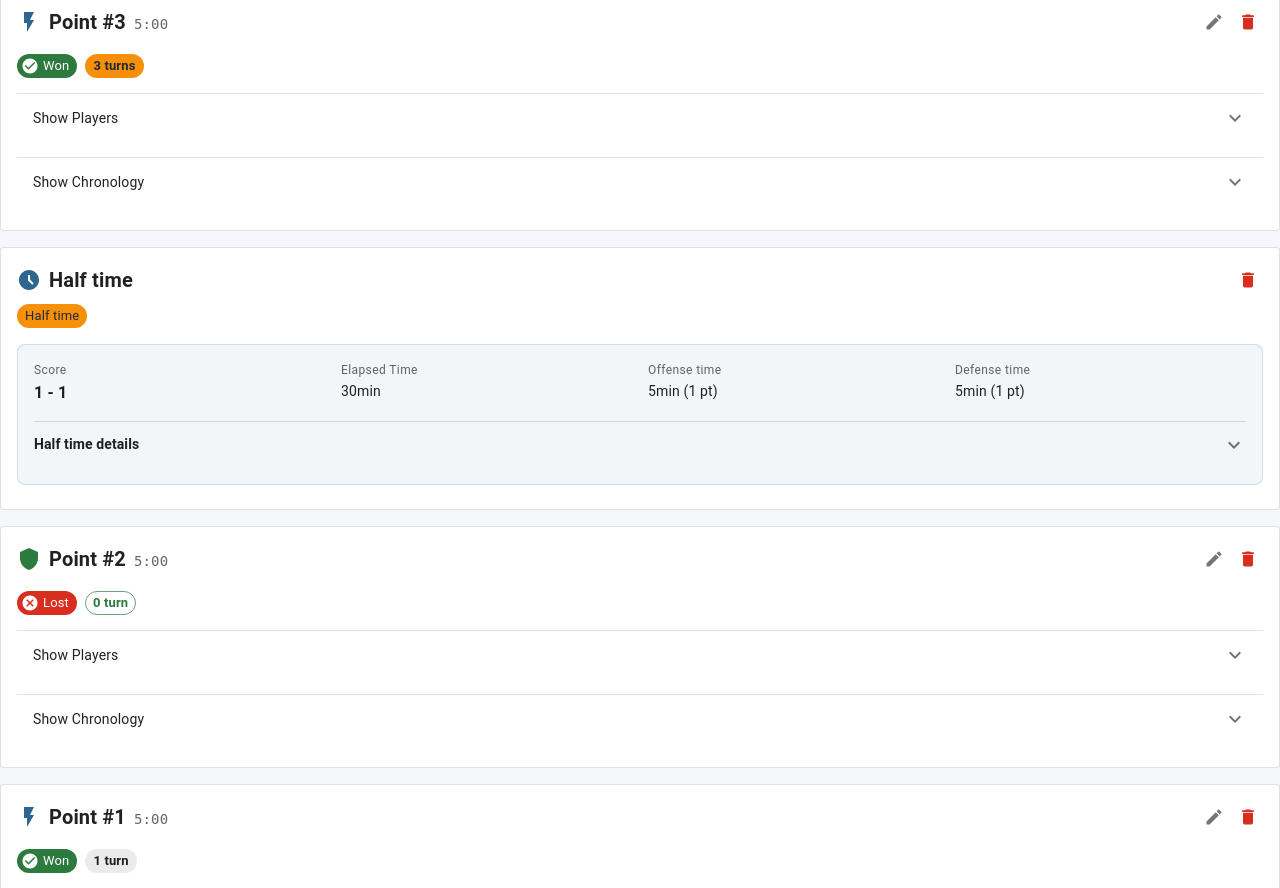
it: PointHistoryList › renders halftime overview snapshot from points before halftime
This screenshot has width=1280, height=888.
Expected: the text "1 - 1" is shown, top-left (34, 383), bottom-right (67, 402)
Expected: the element "Half time" is shown, top-left (0, 247), bottom-right (1279, 510)
Click the button "Half time details".
click(87, 444)  # box top-left (34, 421), bottom-right (1246, 468)
(page scrolled)
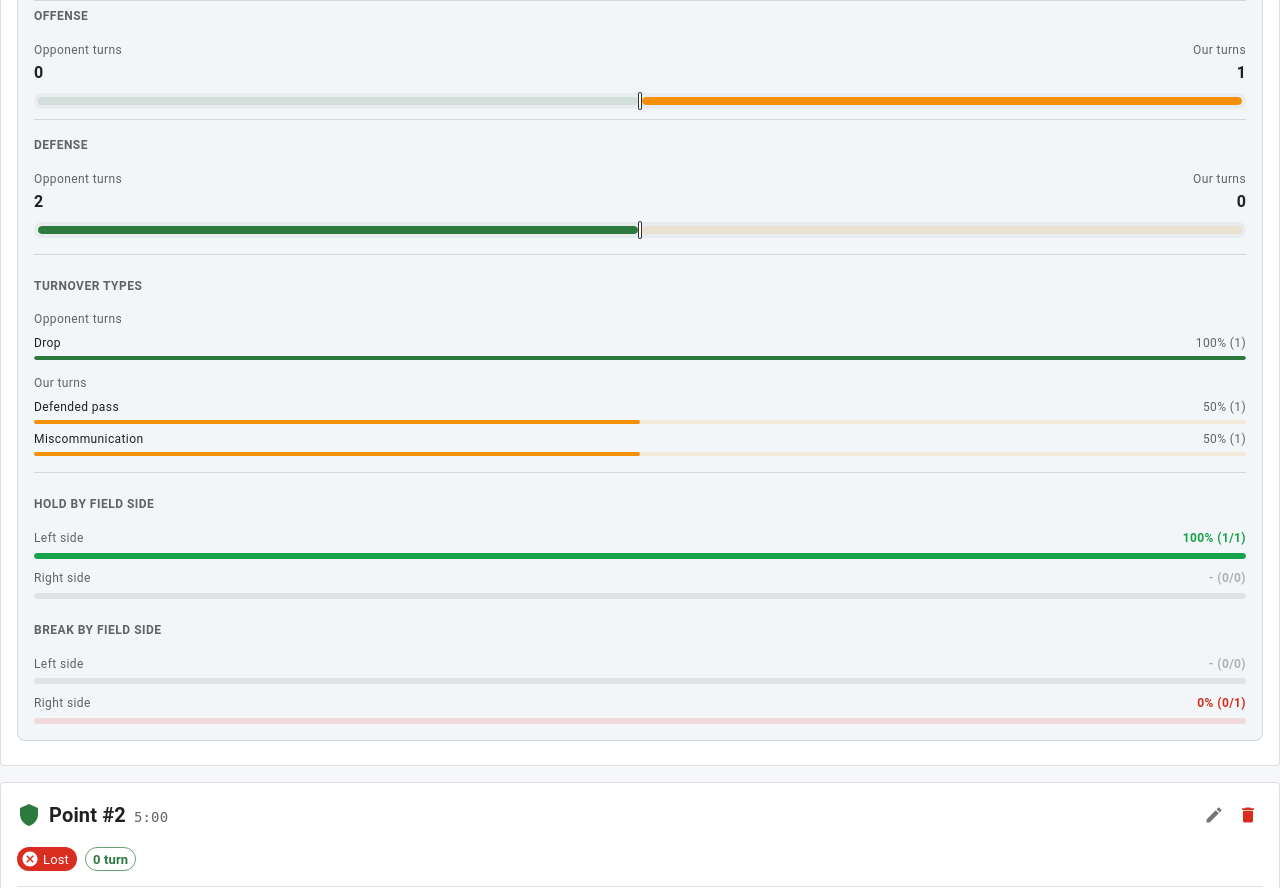
Expected: the text "Hold by field side" is shown, top-left (34, 497), bottom-right (154, 511)
Expected: the text "Break by field side" is shown, top-left (34, 623), bottom-right (162, 637)
Expected: the text "100% (1/1)" is shown, top-left (1183, 529), bottom-right (1246, 549)
